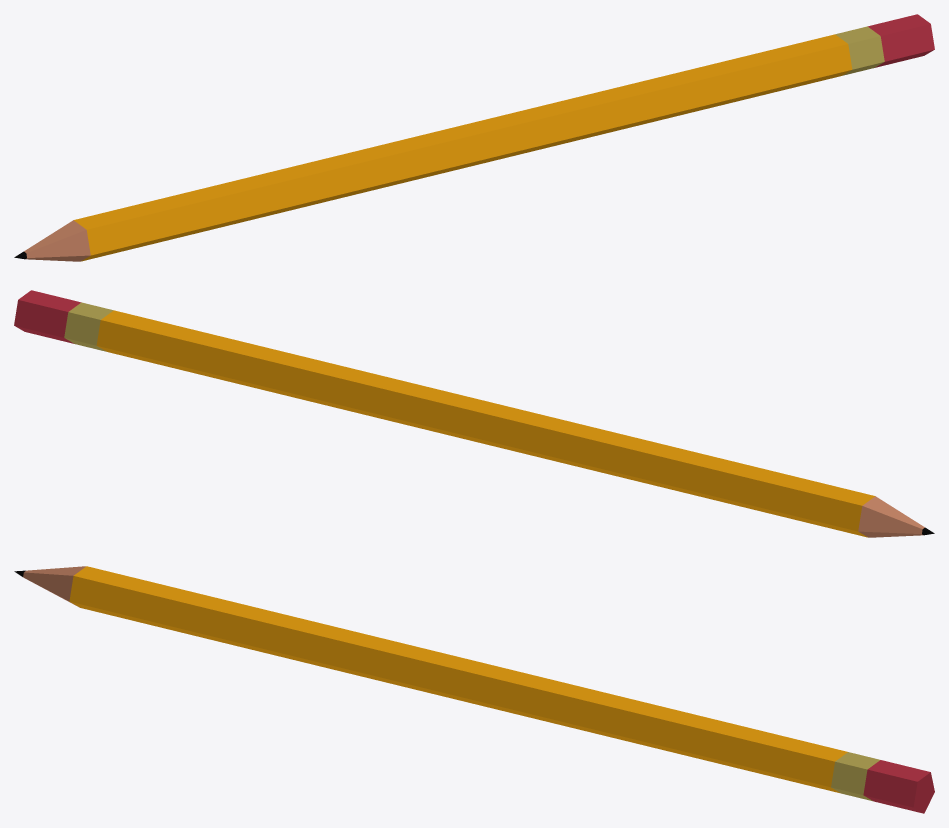
The model's file is pencil.fbx.
3 renders of one model, top to bottom at view 1: azimuth 30°, elevation 25°; view 2: azimuth 150°, elevation 25°; view 3: azimuth 330°, elevation 25°, orthographic.
Parts seen in each view (by area): view 1: pCylinder4; view 2: pCylinder4; view 3: pCylinder4.
Part boxes in pixels (x1=…): pCylinder4: x1=14, y1=14, x2=934, y2=261; pCylinder4: x1=14, y1=290, x2=934, y2=537; pCylinder4: x1=14, y1=566, x2=934, y2=813.
Bounding box in the file's own units: 35.07 × 1.36 × 1.43.
